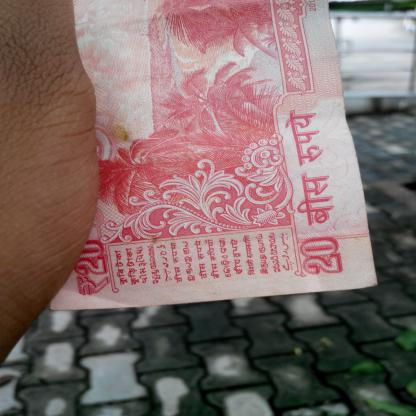Old20Back: (50, 0, 378, 311)
